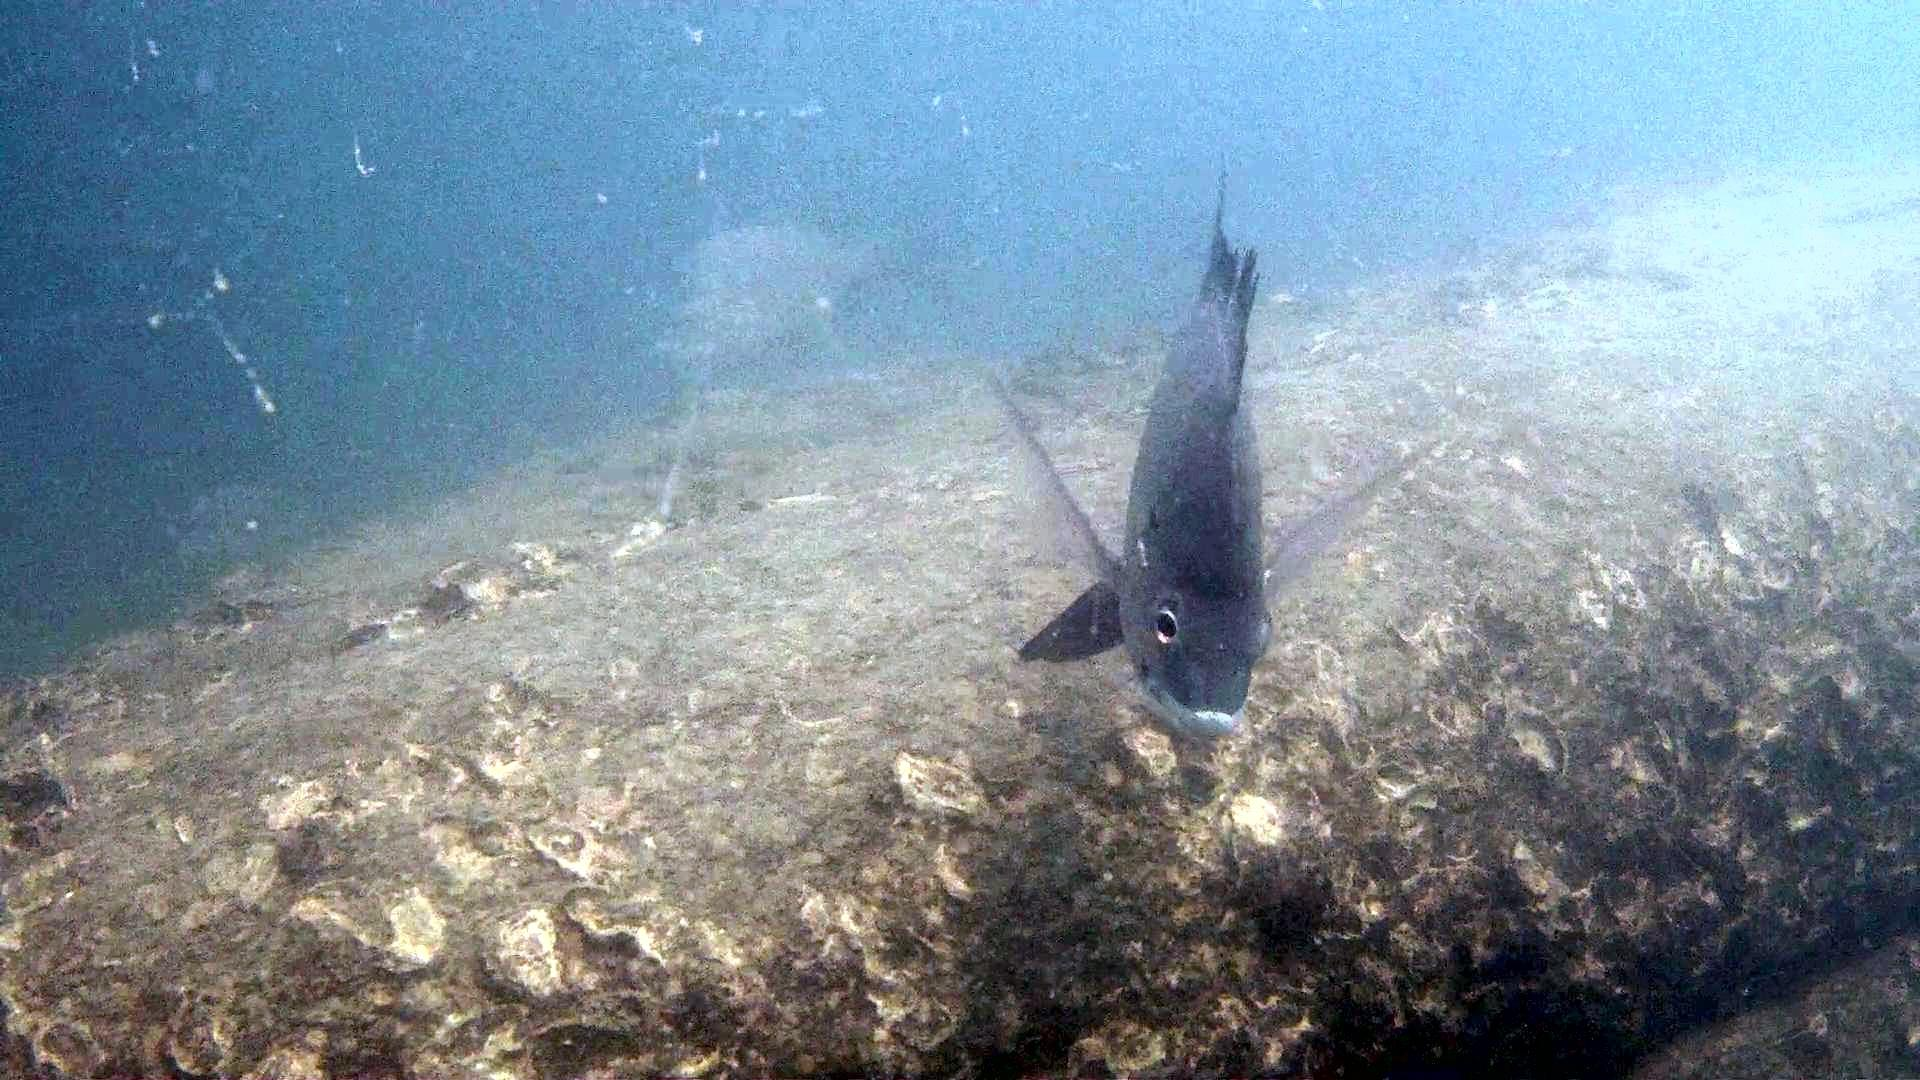acanthopagrus palmaris: (989, 166, 1445, 752)
